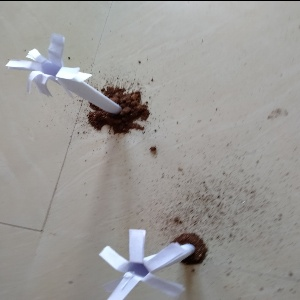weed: (7, 38, 122, 127), (100, 230, 196, 300)
